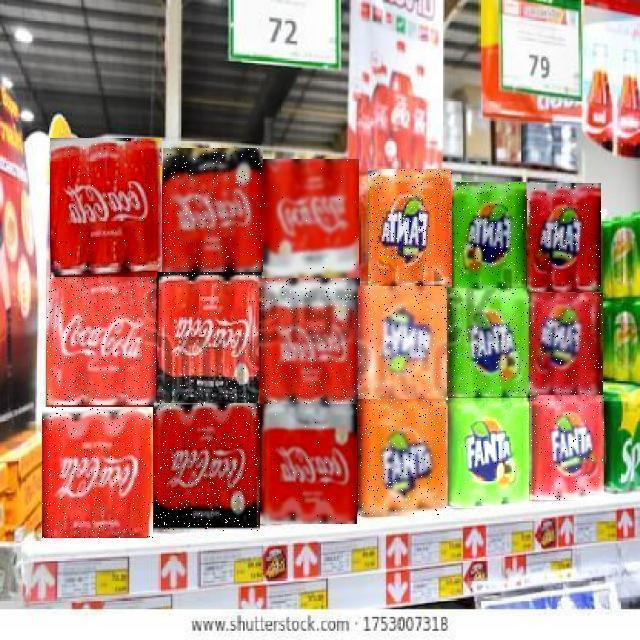Drinks: (50, 139, 162, 279), (42, 407, 153, 538), (158, 272, 266, 406), (47, 277, 156, 405), (155, 404, 261, 532), (163, 148, 263, 272), (262, 279, 360, 405), (260, 405, 357, 525), (263, 159, 359, 279), (358, 400, 448, 516), (358, 286, 448, 400), (368, 169, 452, 286), (446, 398, 532, 508), (447, 287, 530, 396), (527, 183, 601, 292), (530, 395, 604, 501), (452, 183, 526, 289), (529, 293, 603, 395)
